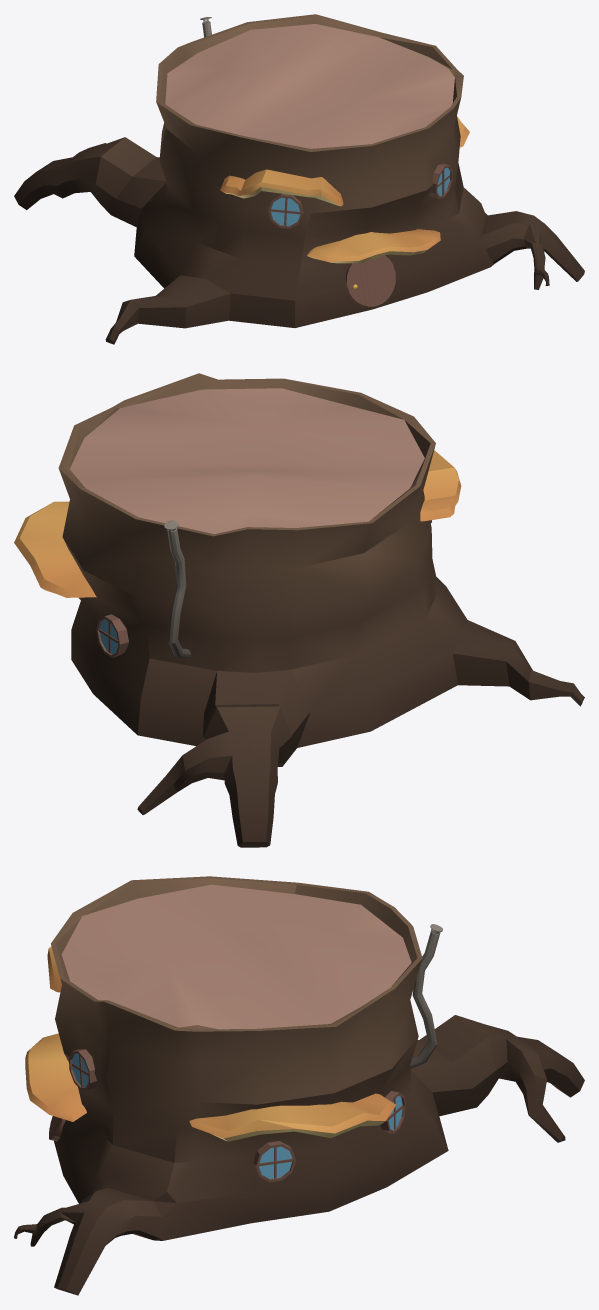
File: Haus_Alex.fbx
The picture shows the model from 3 angles, top to bottom: view 1: azimuth 30°, elevation 25°; view 2: azimuth 150°, elevation 25°; view 3: azimuth 270°, elevation 25°; orthographic projection. The views are drawn at different scales.
Visible parts, largest first — view 1: Haus_Alex; view 2: Haus_Alex; view 3: Haus_Alex.
Boxes of the visible parts, <box> form: Haus_Alex: <box>14,14,584,344</box>; Haus_Alex: <box>14,373,584,847</box>; Haus_Alex: <box>14,876,584,1295</box>.
Bounding box in the file's own units: 1827 × 791 × 1703.
